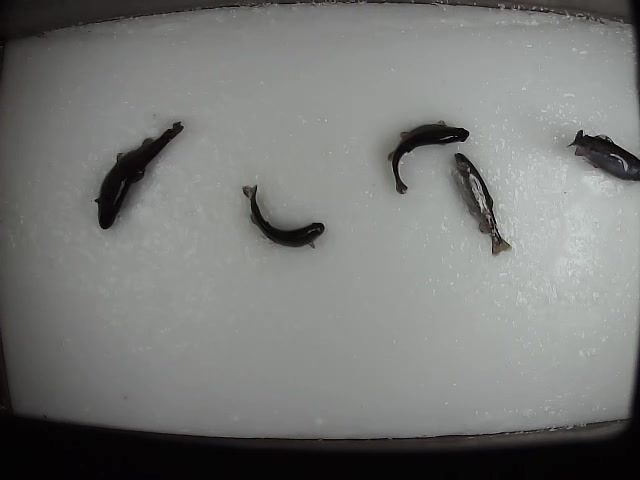fish: (91, 118, 185, 231), (450, 150, 514, 257), (385, 116, 471, 195), (241, 182, 325, 249), (563, 128, 640, 184)
